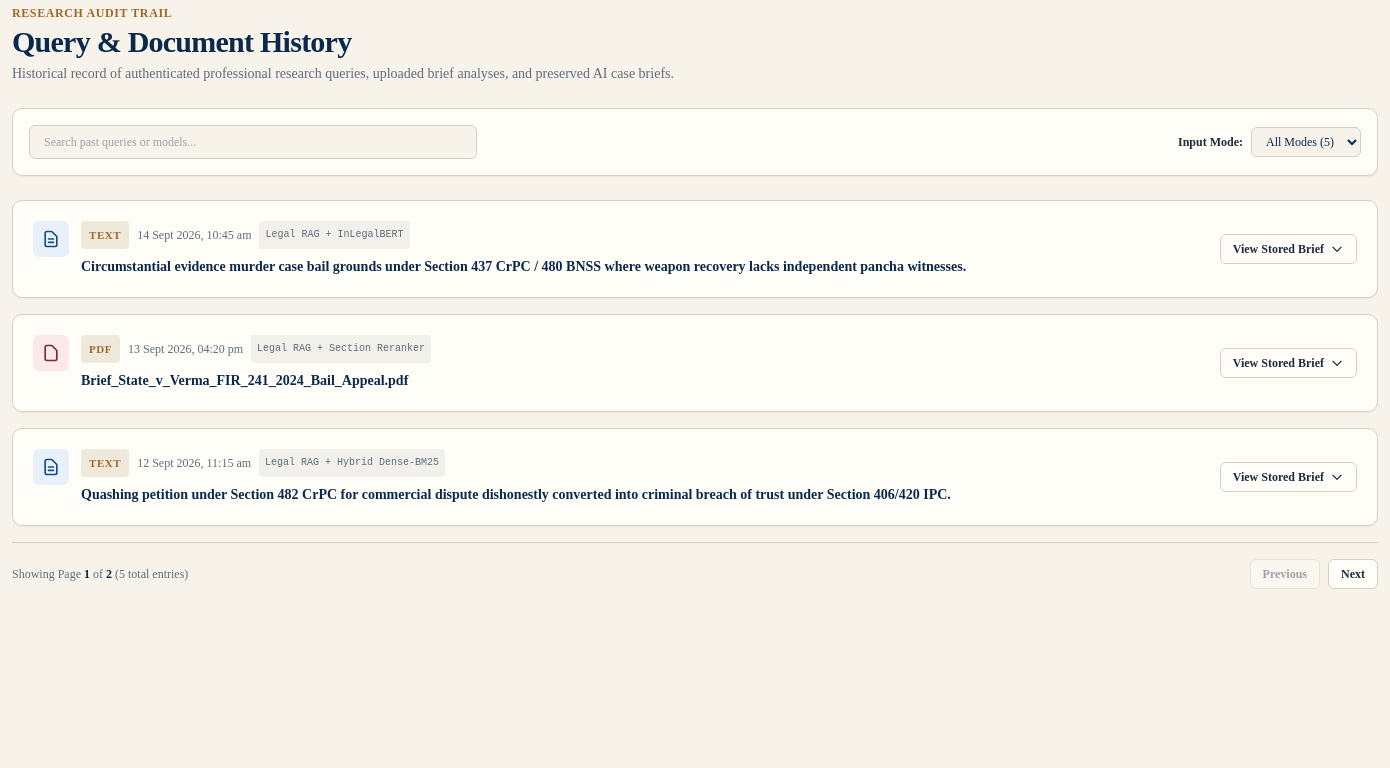
Test: Professional Query History Page › filters history items using search input
Expected: the element with test id "history-list" is shown, [12,200,1378,589]
Type "commercial dispute" into the search field with placeholder "Search past queries or models...".
click(253, 142); type("commercial dispute")  # box [29,125,477,159]
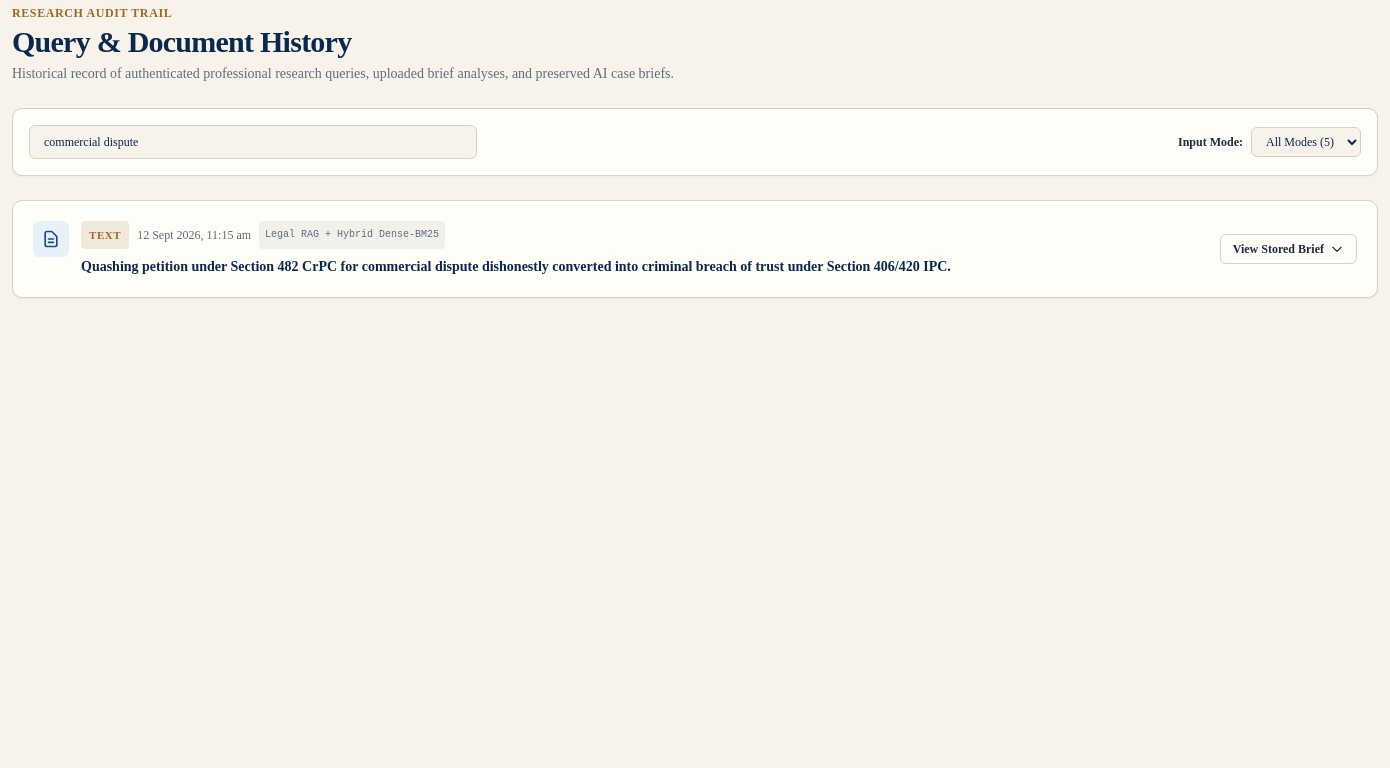
Expected: the text "Quashing petition under Section 482 CrPC for commercial dispute" is shown, [81,259,951,274]
Now the text "Circumstantial evidence murder case" is gone
